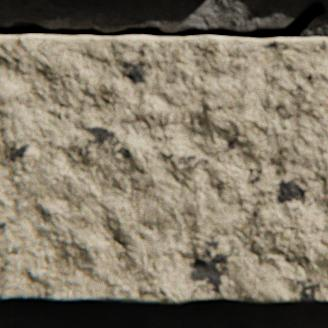brick: (0, 35, 327, 303)
crack: (0, 0, 327, 38)
